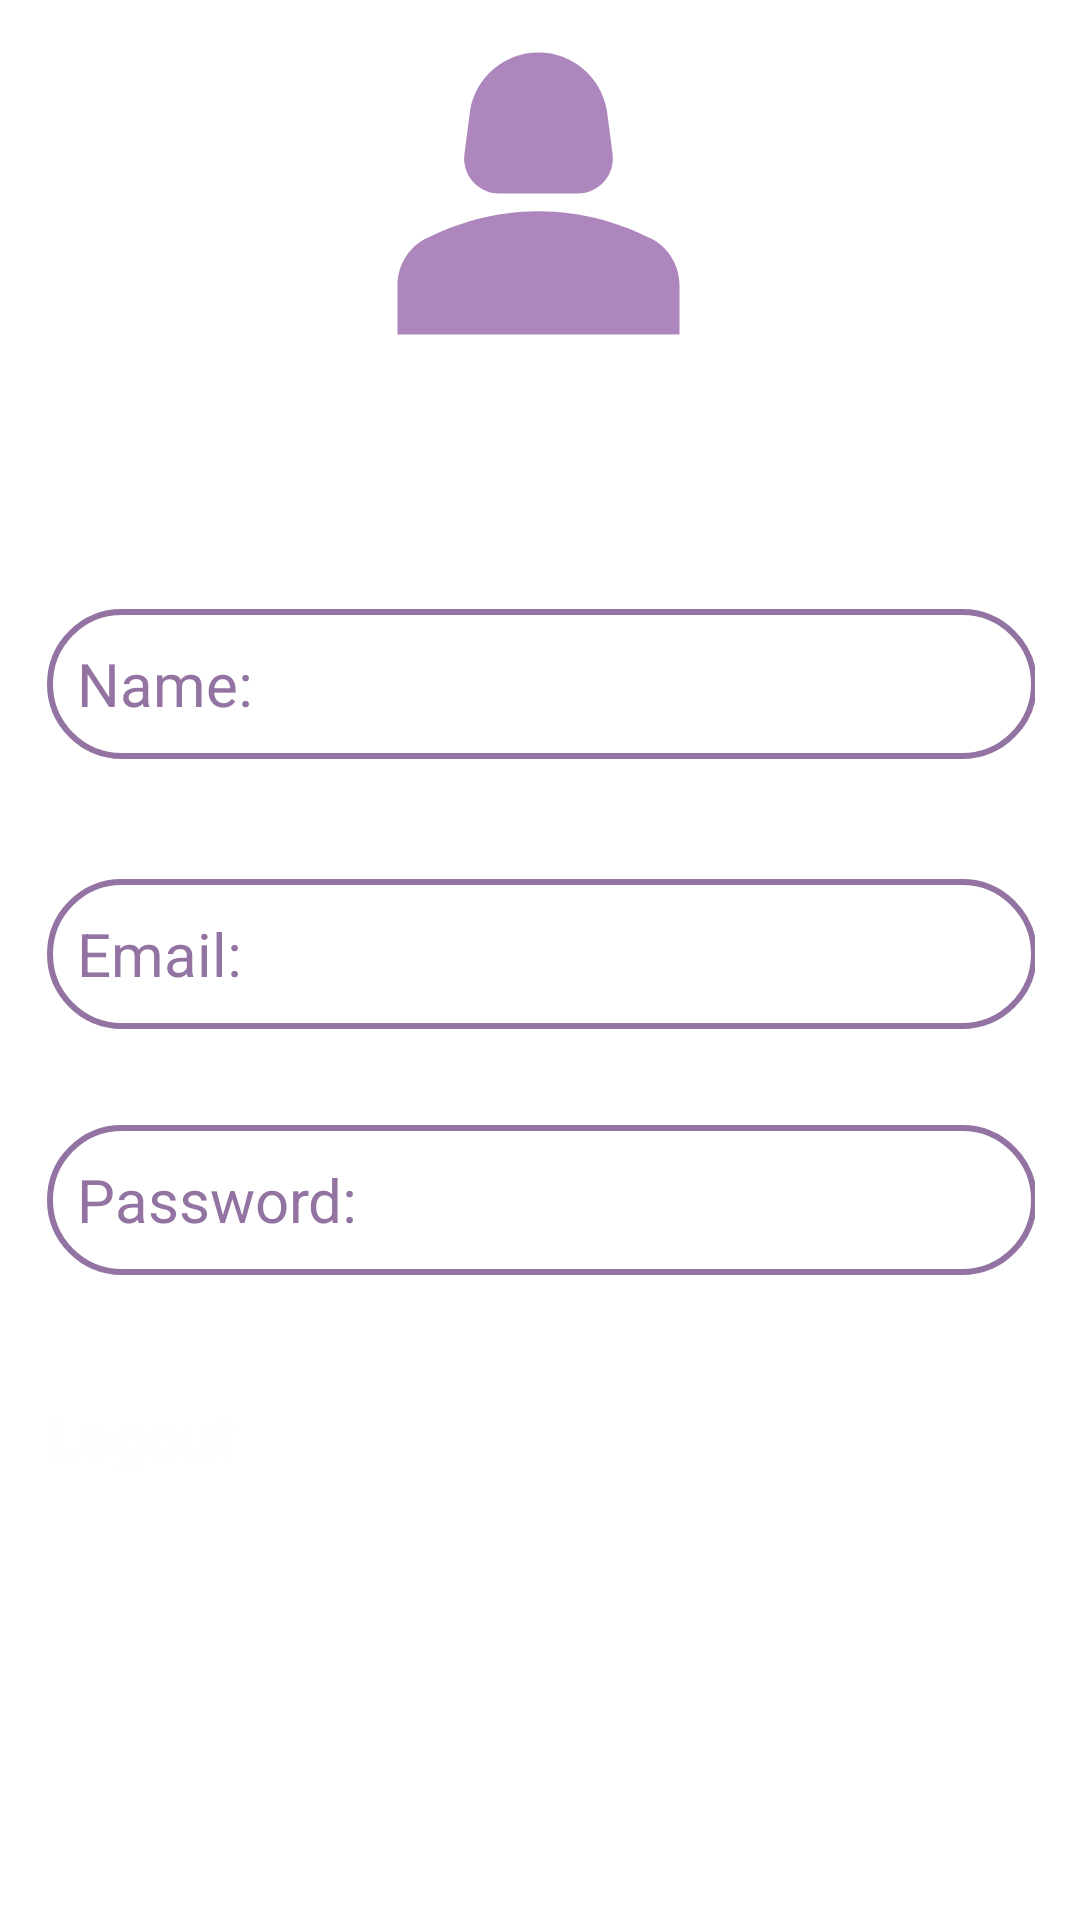

Named icons in this screenshot (1080×1920) and their bounding boxes, (x1, y1, x2, y2):
person: (397, 52, 680, 335)
